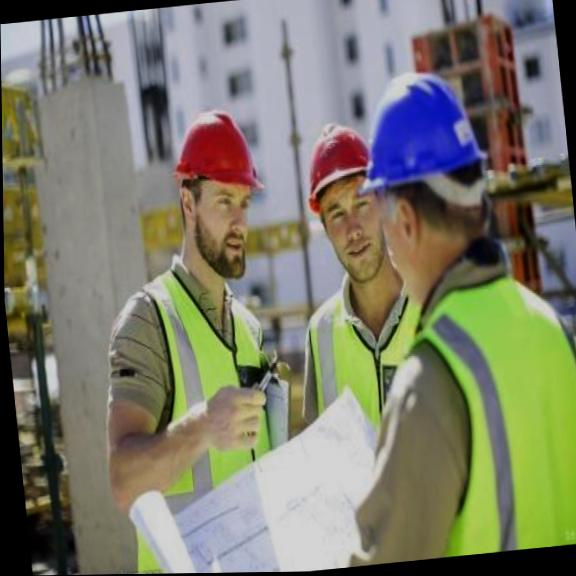safety_vest: (84, 249, 292, 575), (368, 239, 576, 563), (283, 251, 444, 571)
